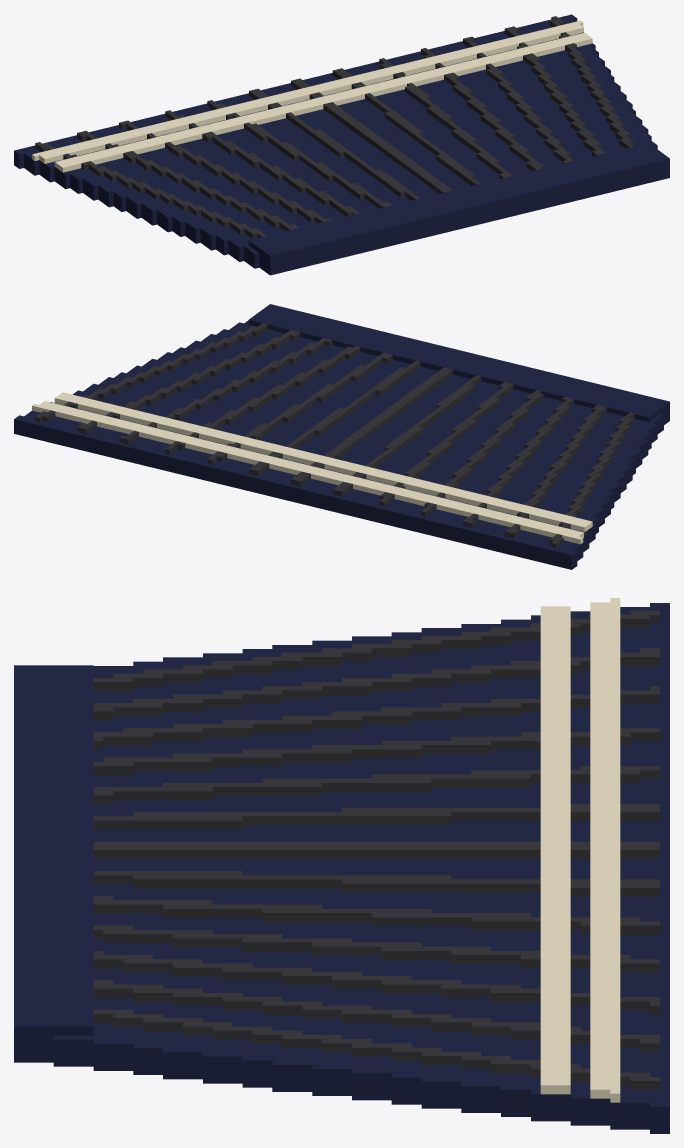
Rendered from skirt_bostonchan.glb.
3 views of the same model, one above another, from view 1: azimuth 30°, elevation 25°; view 2: azimuth 150°, elevation 25°; view 3: azimuth 270°, elevation 25° (orthographic). The views are drawn at different scales.
Parts seen in each view (by area): view 1: skirt_bostonchan:compound; view 2: skirt_bostonchan:compound; view 3: skirt_bostonchan:compound.
Boxes of the visible parts, box(x1,y1,x2,y2) form: skirt_bostonchan:compound: box(14, 14, 669, 275); skirt_bostonchan:compound: box(14, 304, 669, 569); skirt_bostonchan:compound: box(14, 598, 669, 1133).
Size of the model in its own units: 0.48 by 0.016 by 0.264.
